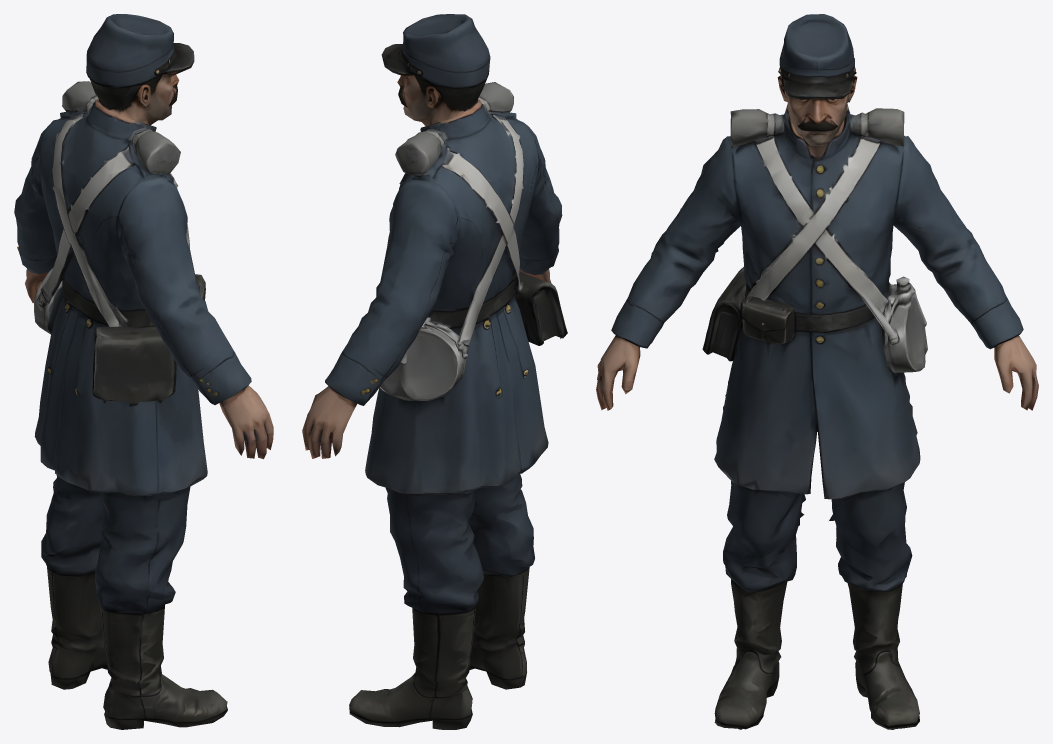
The model's file is 8092f452-fad5-4f76-ac99-7ac63dee5321_model_url.glb.
The picture shows the model from 3 angles, left to right: view 1: azimuth 30°, elevation 25°; view 2: azimuth 150°, elevation 25°; view 3: azimuth 270°, elevation 25°; orthographic projection.
Visible parts, largest first — view 1: tripo_node_8092f452-fad5-4f76-ac99-7ac63dee5321; view 2: tripo_node_8092f452-fad5-4f76-ac99-7ac63dee5321; view 3: tripo_node_8092f452-fad5-4f76-ac99-7ac63dee5321.
Part boxes in pixels (x1,y1,x2,y2): tripo_node_8092f452-fad5-4f76-ac99-7ac63dee5321: (14, 14, 273, 729); tripo_node_8092f452-fad5-4f76-ac99-7ac63dee5321: (302, 14, 567, 729); tripo_node_8092f452-fad5-4f76-ac99-7ac63dee5321: (596, 14, 1038, 729).
Size of the model in its own units: 0.2151 by 1 by 0.5848.
1 material, 1 textured.
